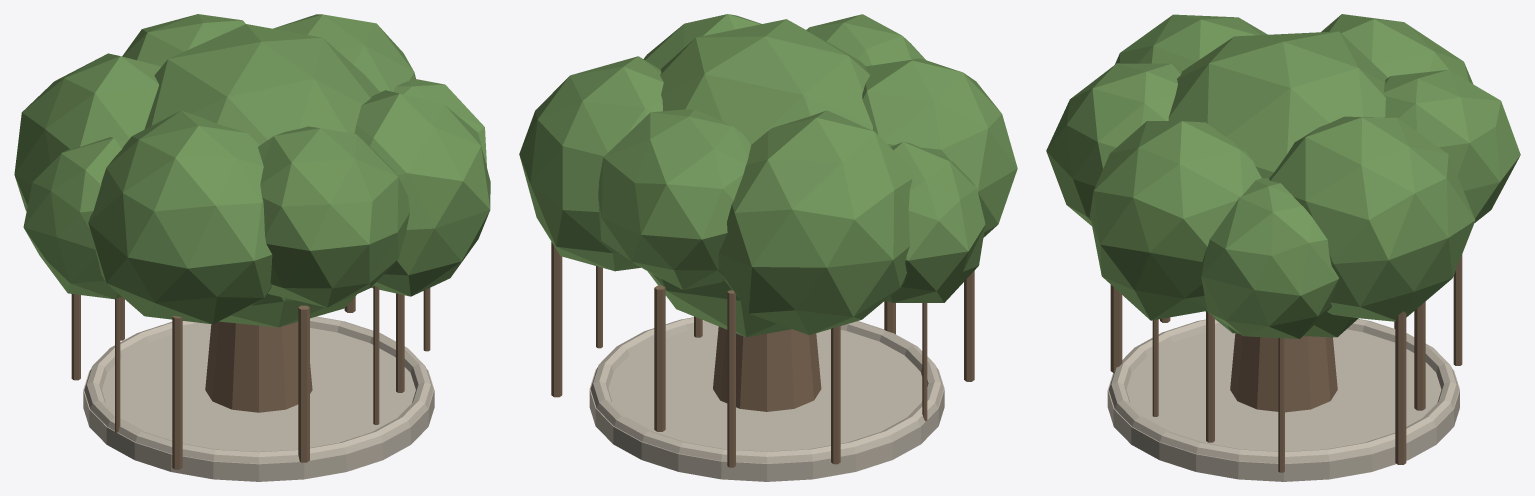
Rendered from env_marutham_alamaram.fbx.
3 renders of one model, left to right at view 1: azimuth 30°, elevation 25°; view 2: azimuth 150°, elevation 25°; view 3: azimuth 270°, elevation 25°, orthographic.
Parts seen in each view (by area): view 1: env_kulaathanku_alamaram; view 2: env_kulaathanku_alamaram; view 3: env_kulaathanku_alamaram.
Boxes of the visible parts, x1=… form: env_kulaathanku_alamaram: x1=14, y1=14, x2=490, y2=481; env_kulaathanku_alamaram: x1=519, y1=14, x2=1017, y2=481; env_kulaathanku_alamaram: x1=1046, y1=14, x2=1520, y2=481.
Size of the model in its own units: 1018 by 827 by 970.
